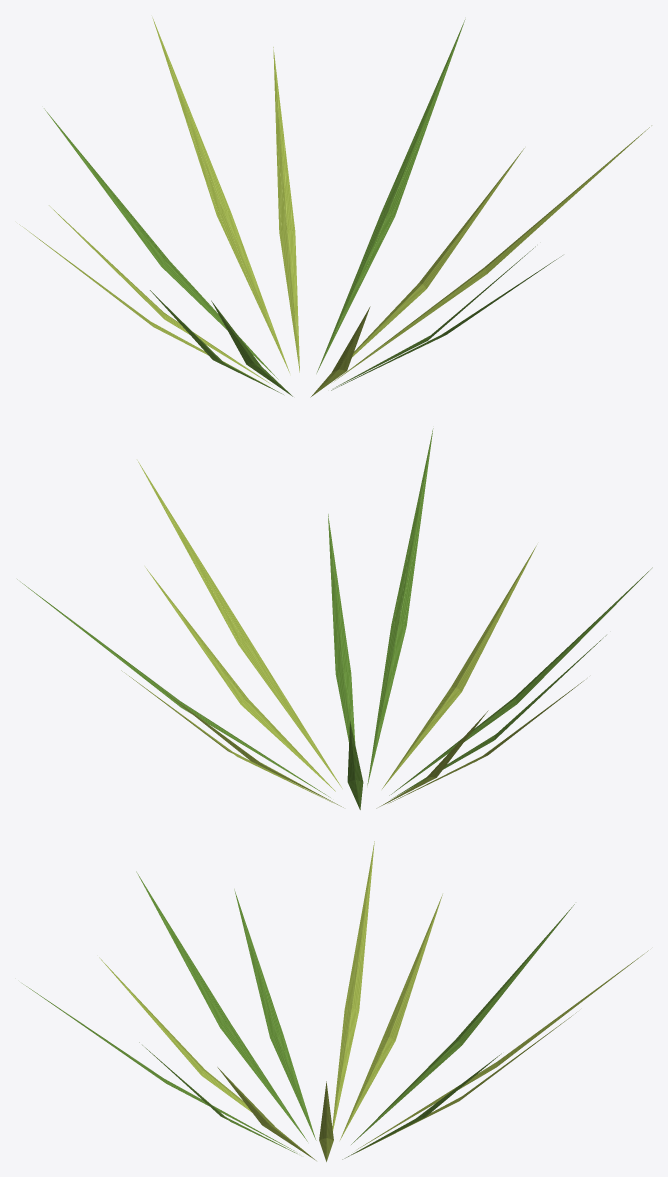
Rendered from crop-lemongrass-flowering.glb.
The picture shows the model from 3 angles, top to bottom: view 1: azimuth 30°, elevation 25°; view 2: azimuth 150°, elevation 25°; view 3: azimuth 270°, elevation 25°; orthographic projection. The views are drawn at different scales.
Parts seen in each view (by area): view 1: crop-lemongrass-flowering; view 2: crop-lemongrass-flowering; view 3: crop-lemongrass-flowering.
Boxes of the visible parts, x1,y1,x2,y2 form: crop-lemongrass-flowering: (19, 17, 651, 397); crop-lemongrass-flowering: (17, 428, 652, 809); crop-lemongrass-flowering: (22, 841, 648, 1161).
Bounding box in the file's own units: 1.26 × 0.5135 × 1.37.
Materials: 1 (1 with a texture image).
